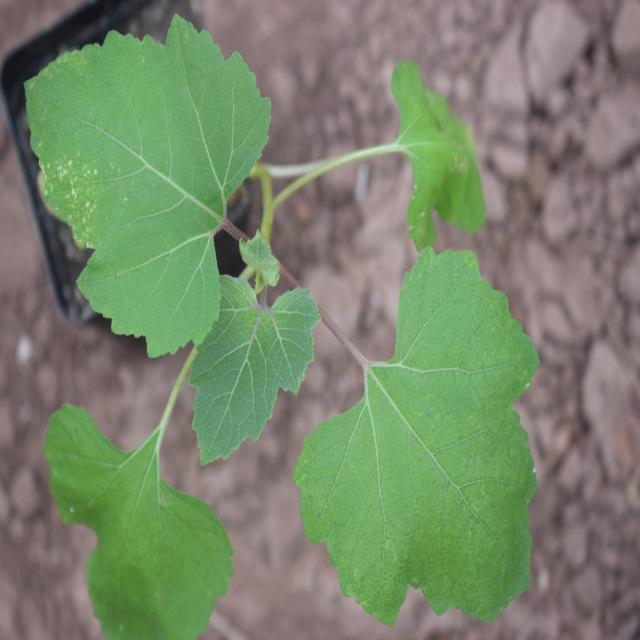cocklebur: (29, 11, 527, 621)
